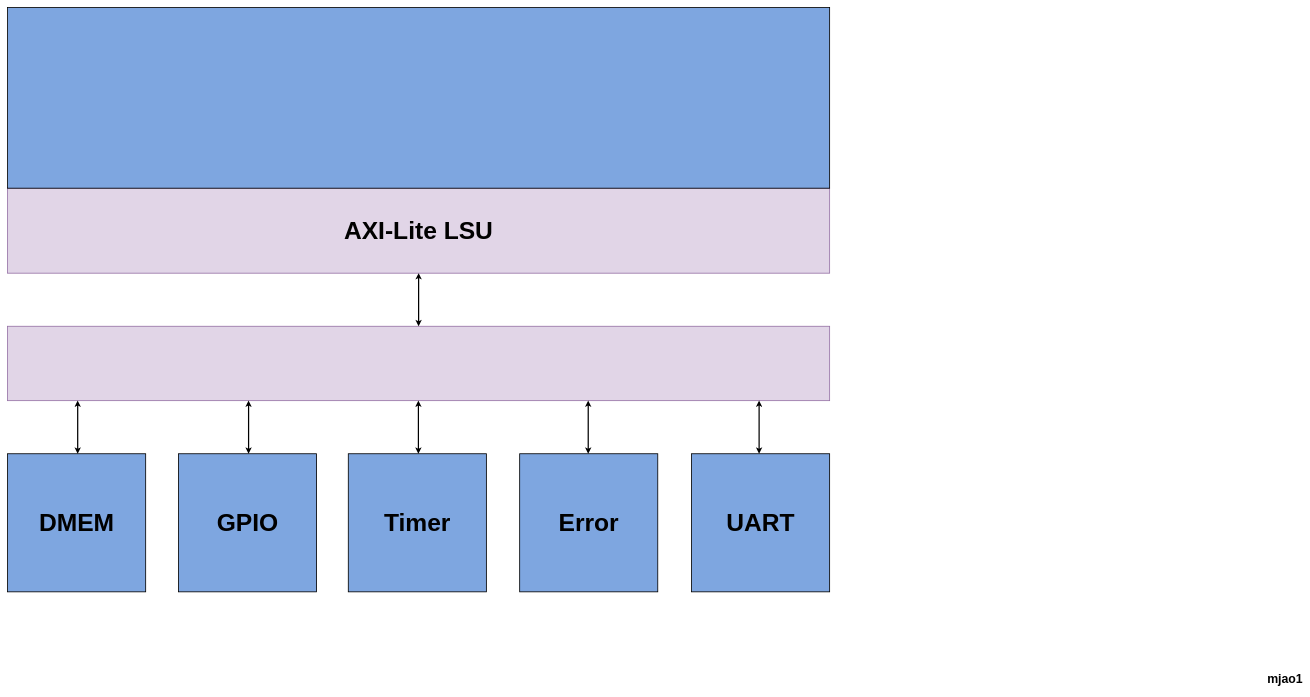
The diagram is 1310 pixels wide and 697 high, and some of its shapes have lost their labels. Here are the shapes that lost their labels. From the top down, the centre of each, then its label:
[418,97]: RV32I Core
[418,363]: AXI-Lite Interconnect
